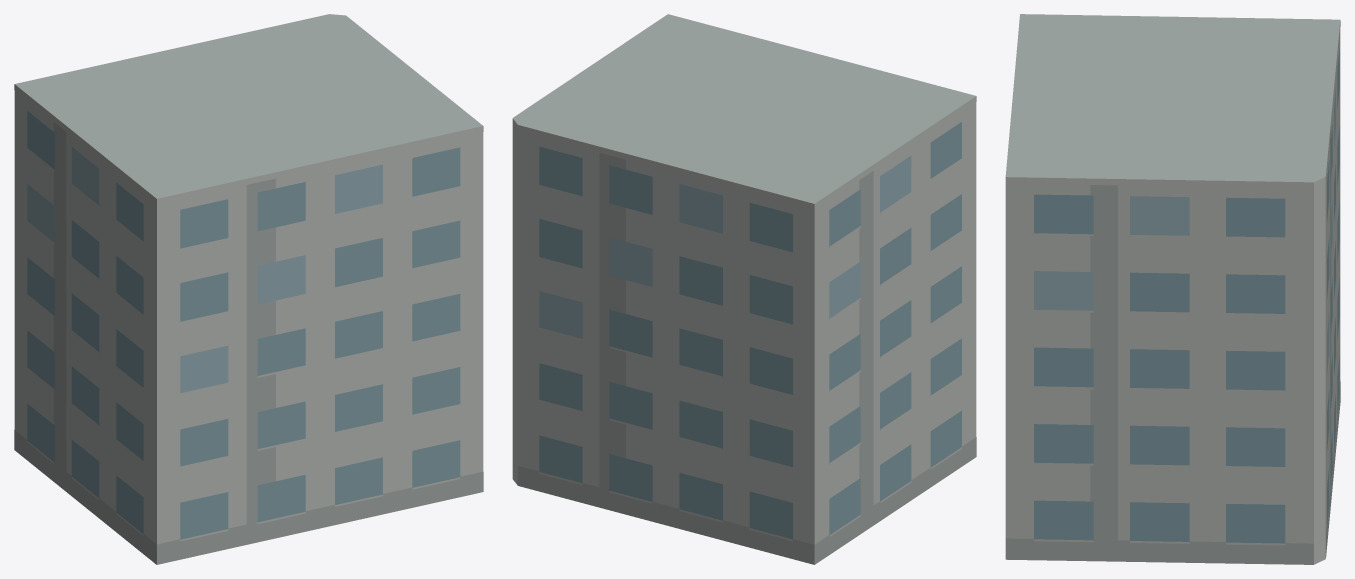
The model's file is survey-upis-32841485.glb.
3 views of the same model, side by side, from view 1: azimuth 30°, elevation 25°; view 2: azimuth 150°, elevation 25°; view 3: azimuth 270°, elevation 25° (orthographic). The views are drawn at different scales.
Parts seen in each view (by area): view 1: survey-upis-32841485.tmp; view 2: survey-upis-32841485.tmp; view 3: survey-upis-32841485.tmp.
Part boxes in pixels (x1,y1,x2,y2): survey-upis-32841485.tmp: (14, 14, 483, 564); survey-upis-32841485.tmp: (512, 14, 976, 564); survey-upis-32841485.tmp: (1005, 14, 1340, 564).
Bounding box in the file's own units: 13.69 × 14.5 × 11.51.
